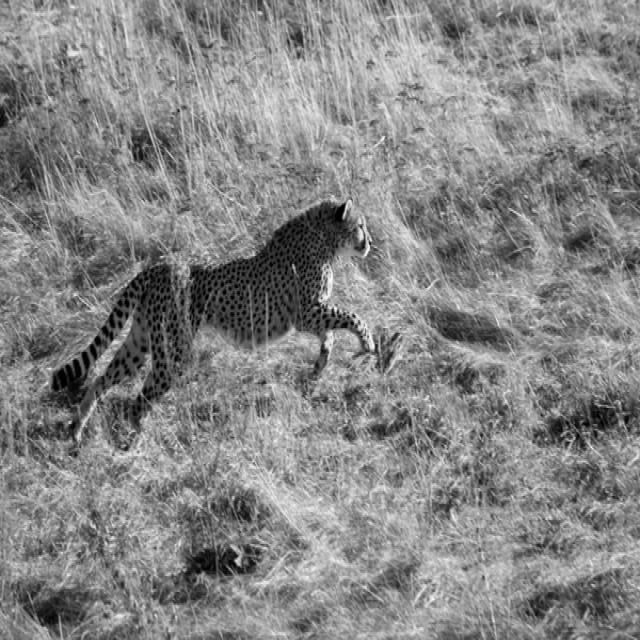Animal: (49, 198, 374, 442)
